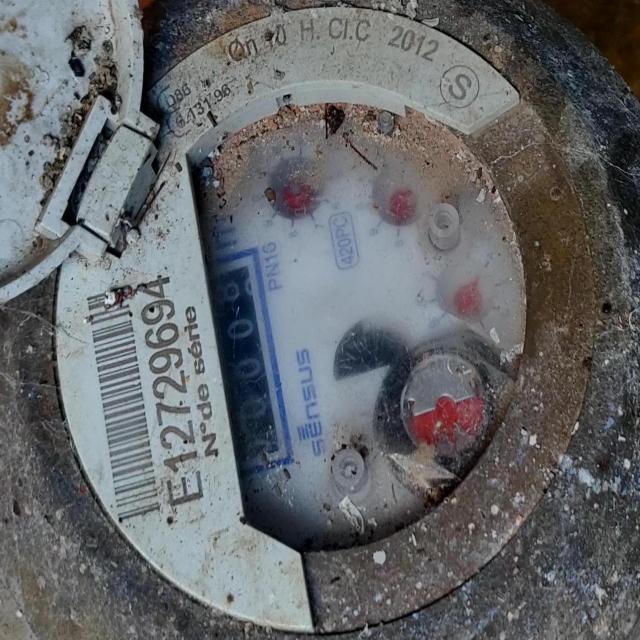gaz_meter: (51, 7, 576, 633)
indication: (208, 252, 290, 474)
